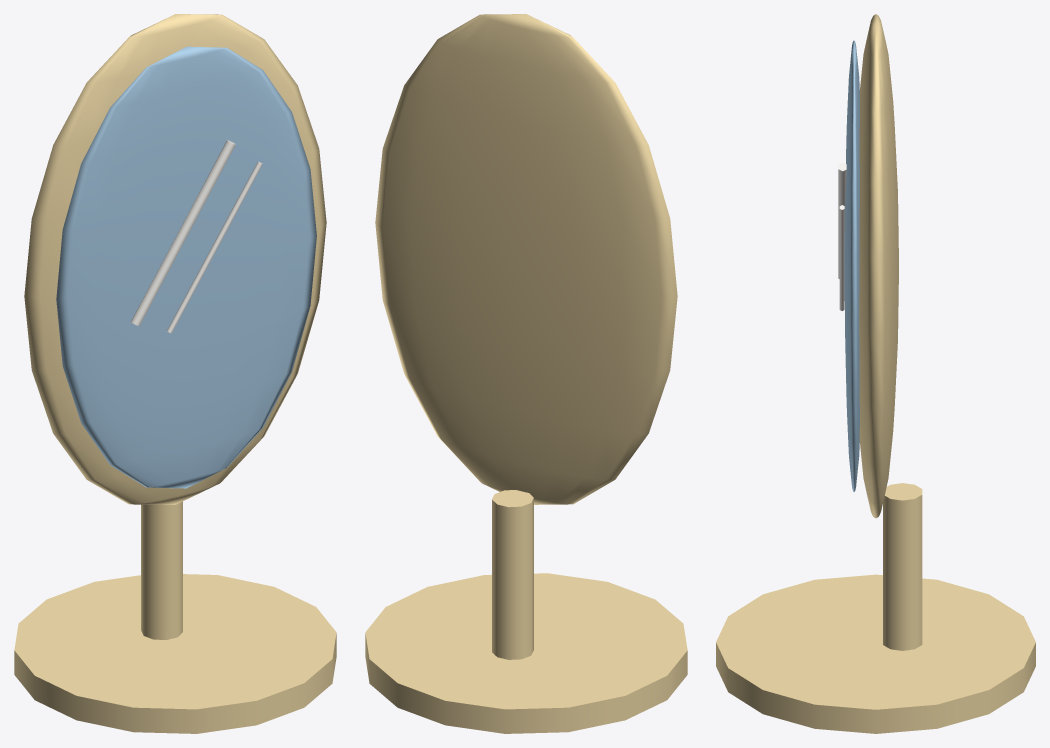
File: 12_espejo_magico.glb
3 views of the same model, side by side, from view 1: azimuth 30°, elevation 25°; view 2: azimuth 150°, elevation 25°; view 3: azimuth 270°, elevation 25° (orthographic).
Parts seen in each view (by area): view 1: body (×3); view 2: body; view 3: body (×3).
Boxes of the visible parts, box(x1,y1,x2,y2) form: body (×3): box(14, 14, 336, 733); body: box(365, 14, 687, 733); body (×3): box(716, 14, 1035, 733).
Bounding box in the file's own units: 0.58 × 1.2 × 0.54.
